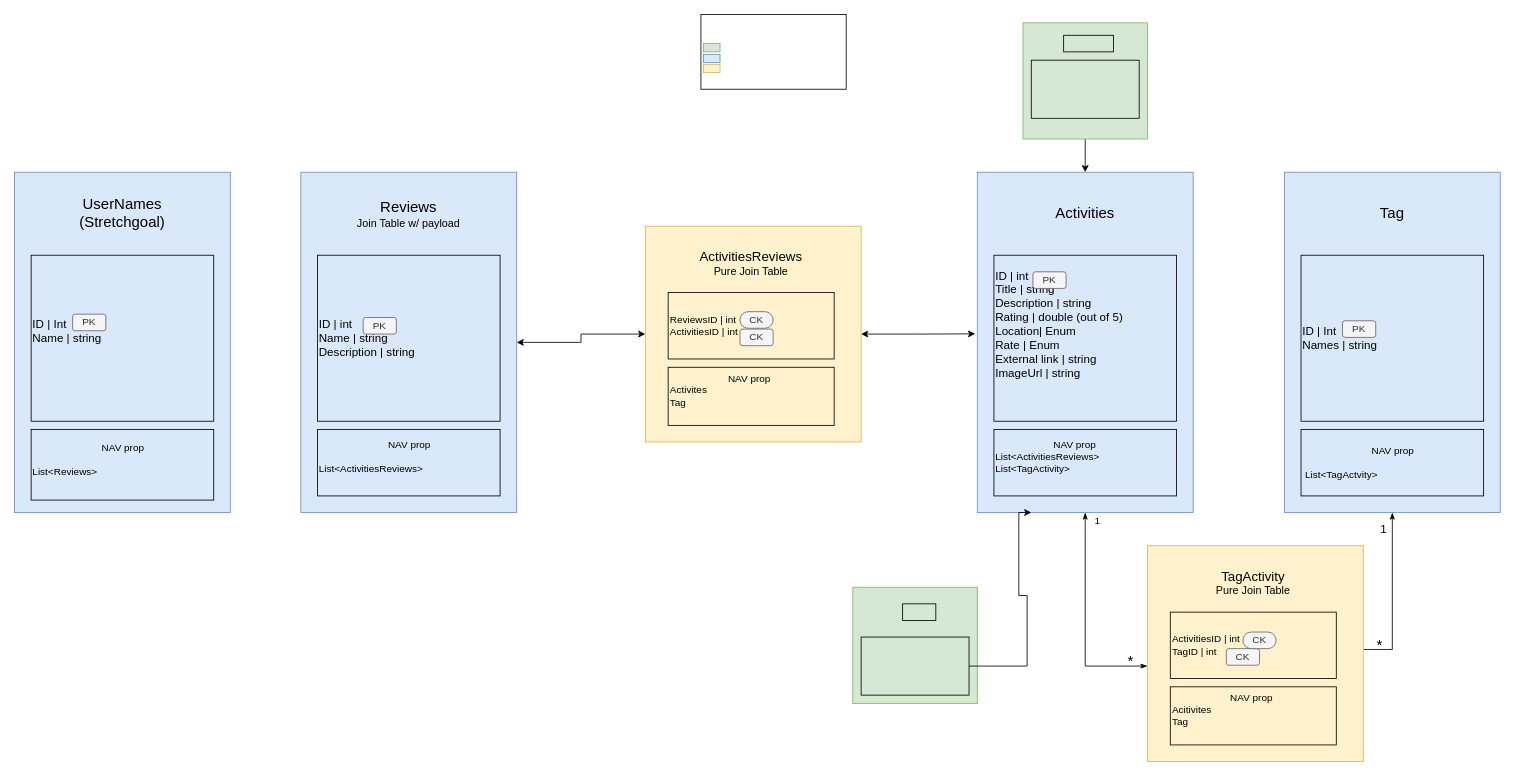
The diagram is 1515 pixels wide and 776 high, and some of its shapes have lost their labels. Each missing label, with the centre of its shape:
"Indoor = 0, Outdoor = 1, Both = 2" belongs at point (1084, 88).
"LEGEND Enum Primary Key table Pure join table" belongs at point (773, 51).
"Location" belongs at point (1088, 43).
"Rate" belongs at point (919, 611).
"Upvote = 0, Downvote =1 null =2" belongs at point (914, 665).
